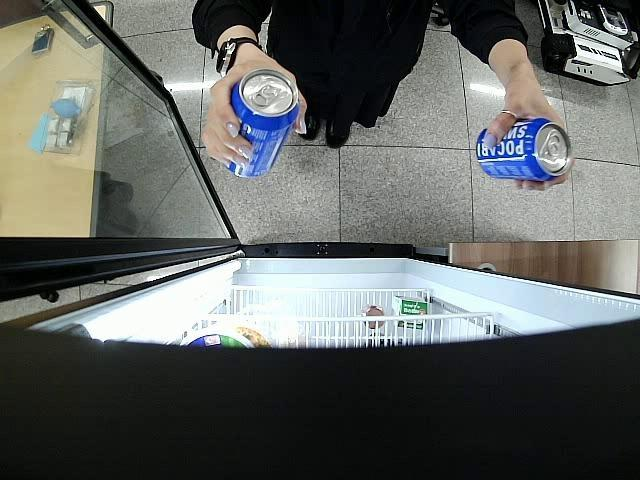13_pocariSweat: (227, 70, 299, 178), (475, 118, 576, 181)
